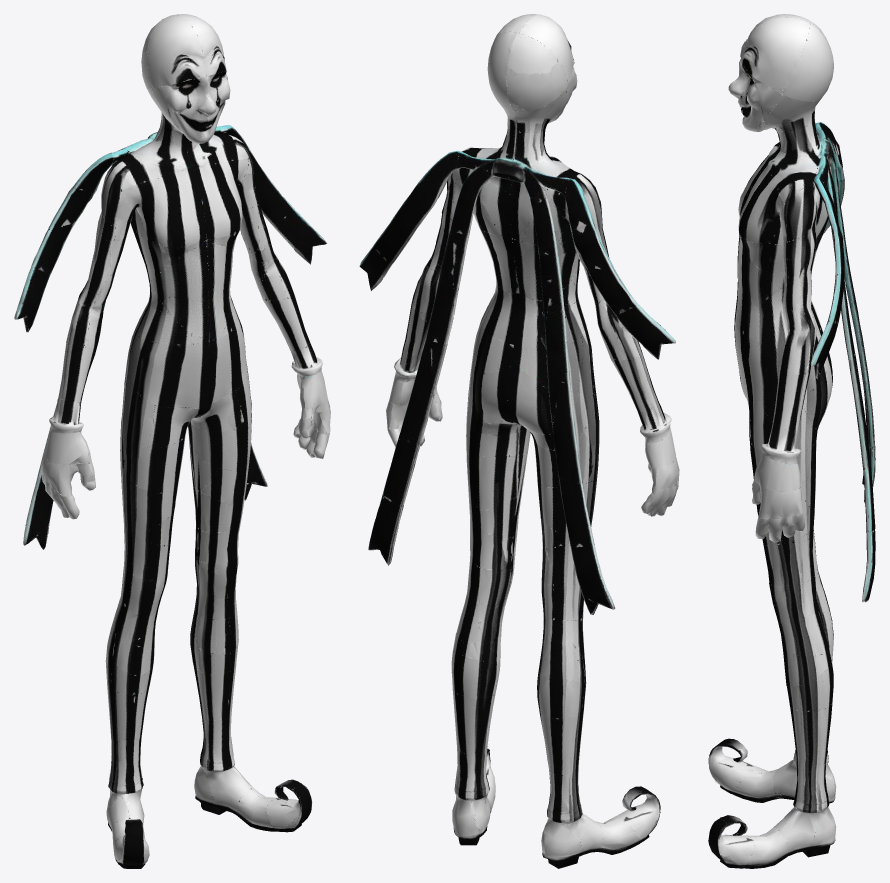
The model's file is 03_faceless_ribbon_mime.glb.
3 views of the same model, side by side, from view 1: azimuth 30°, elevation 25°; view 2: azimuth 150°, elevation 25°; view 3: azimuth 270°, elevation 25° (orthographic).
Parts seen in each view (by area): view 1: mesh_node; view 2: mesh_node; view 3: mesh_node.
Boxes of the visible parts, x1,y1,x2,y2 form: mesh_node: (14, 14, 330, 868); mesh_node: (359, 14, 679, 868); mesh_node: (708, 14, 875, 868).
Bounding box in the file's own units: 0.7641 × 1.9 × 0.3551.
1 material, 1 textured.
